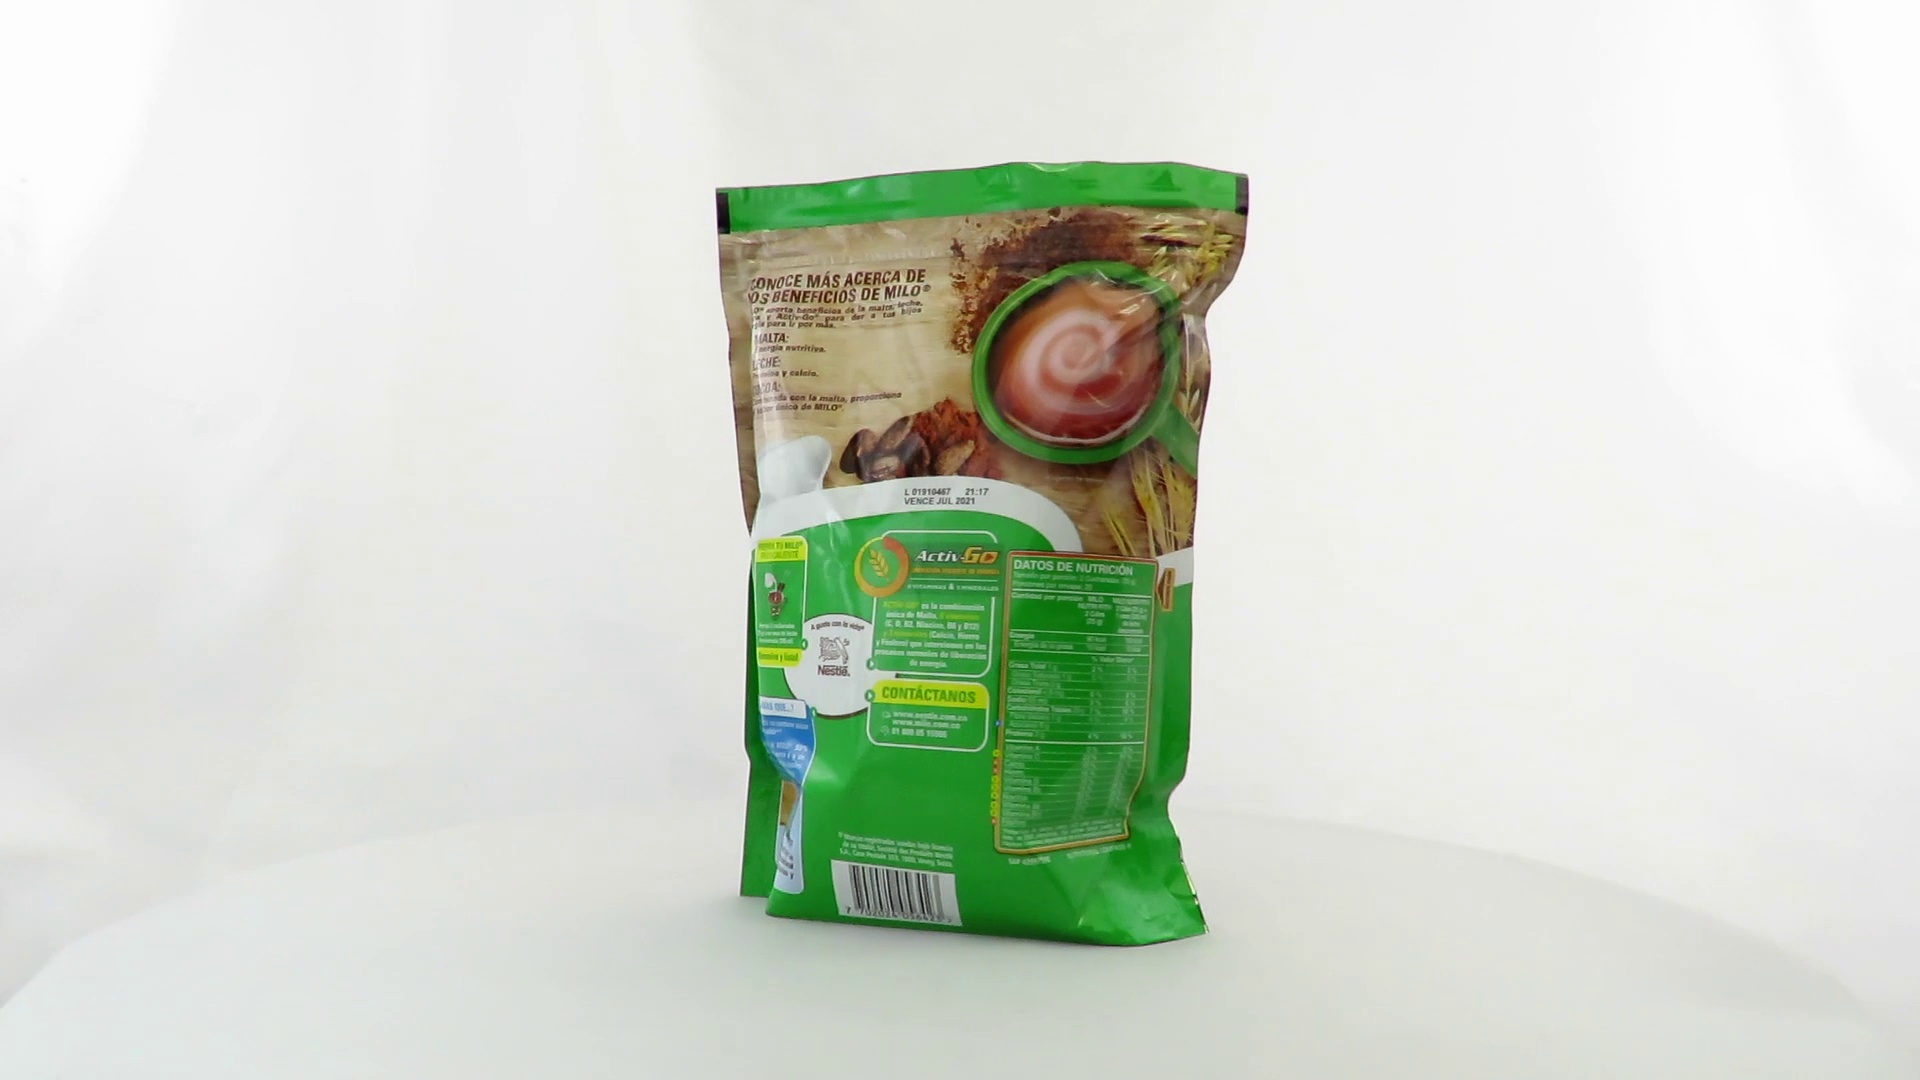COL0170205DYP50000: (709, 156, 1255, 953)
